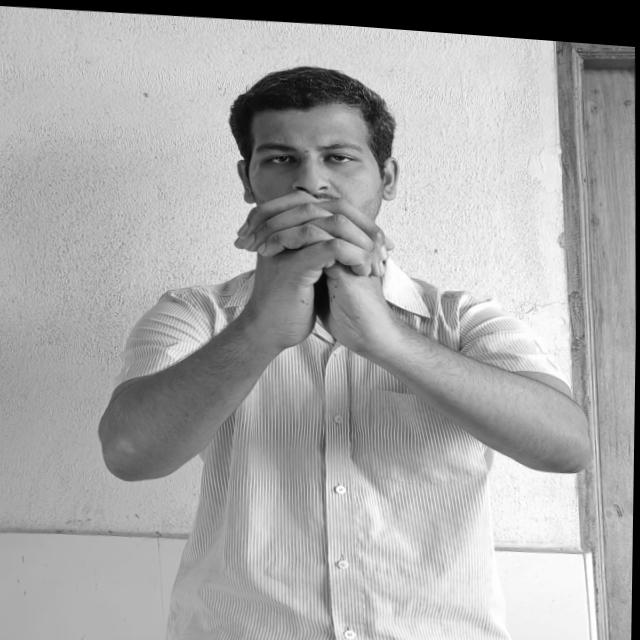Sorry: (231, 180, 401, 341)
